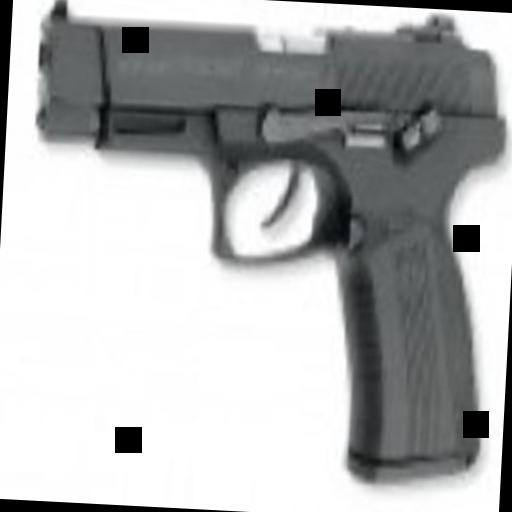Handgun: (19, 0, 512, 493)
